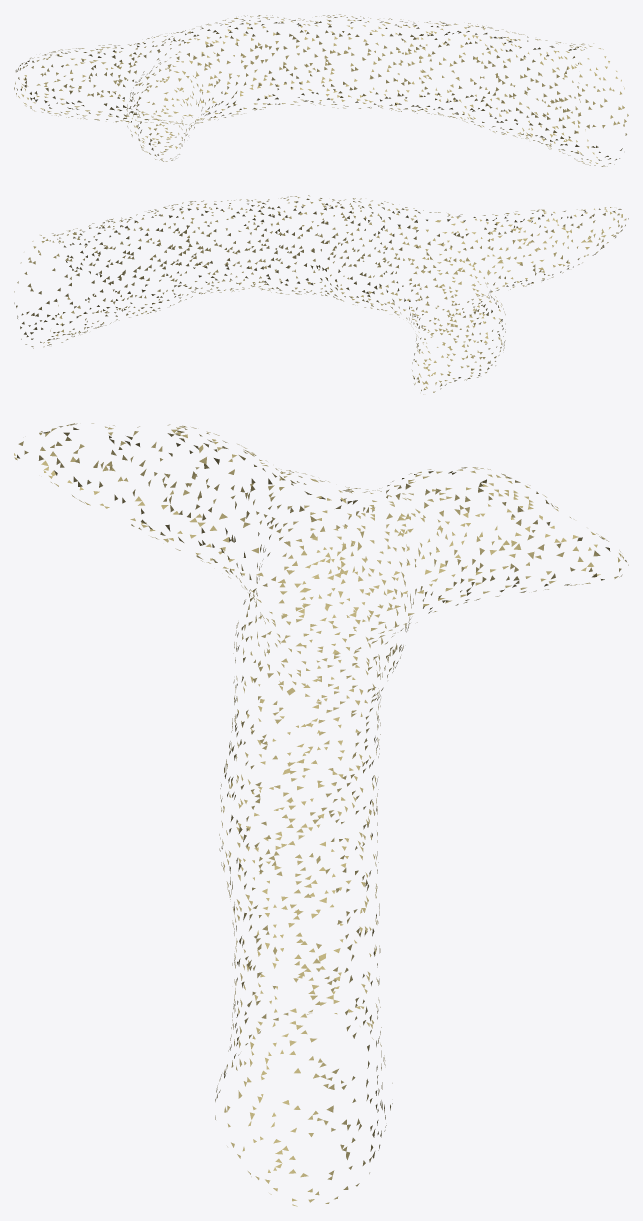
Rendered from morph_008.glb.
3 views of the same model, one above another, from view 1: azimuth 30°, elevation 25°; view 2: azimuth 150°, elevation 25°; view 3: azimuth 270°, elevation 25° (orthographic). The views are drawn at different scales.
Bounding box in the file's own units: 103 × 43.15 × 61.6.
